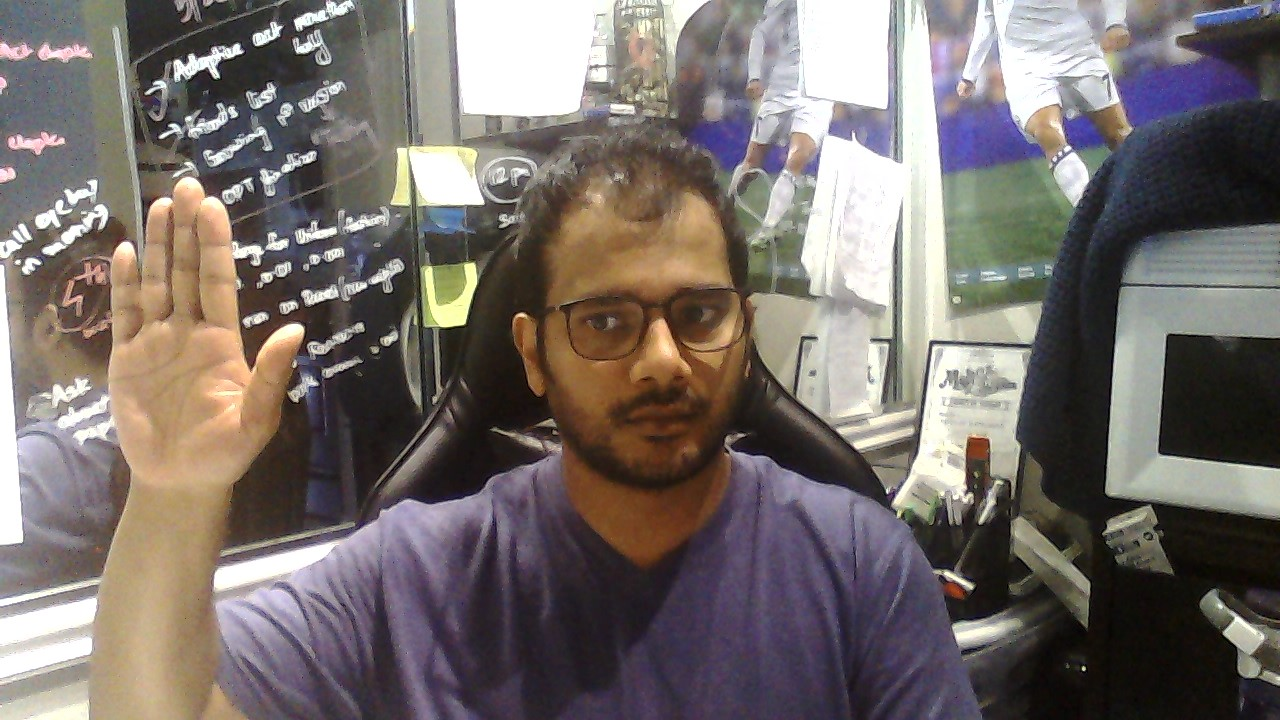Hello: (107, 176, 304, 481)
